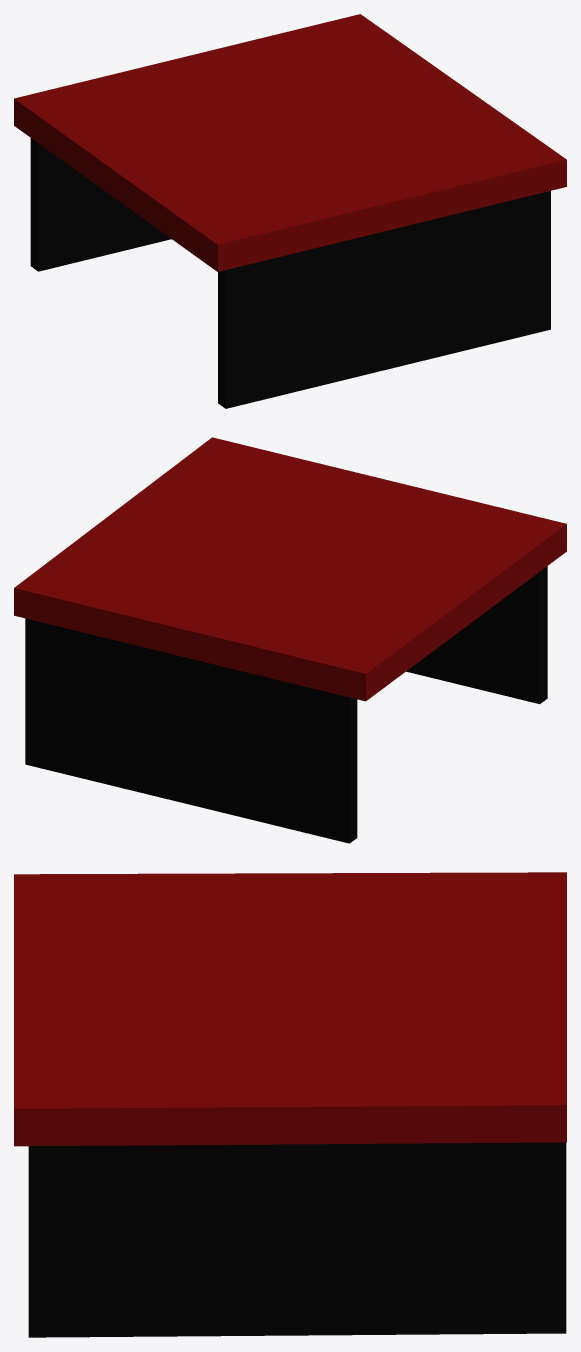
Rendered from House4.FBX.
The picture shows the model from 3 angles, top to bottom: view 1: azimuth 30°, elevation 25°; view 2: azimuth 150°, elevation 25°; view 3: azimuth 270°, elevation 25°; orthographic projection. The views are drawn at different scales.
Visible parts, largest first — view 1: House4; view 2: House4; view 3: House4.
Part boxes in pixels (bbox=[...]): House4: bbox=[14, 14, 566, 408]; House4: bbox=[14, 437, 566, 843]; House4: bbox=[14, 872, 566, 1337].
Bounding box in the file's own units: 949 × 938 × 441.
